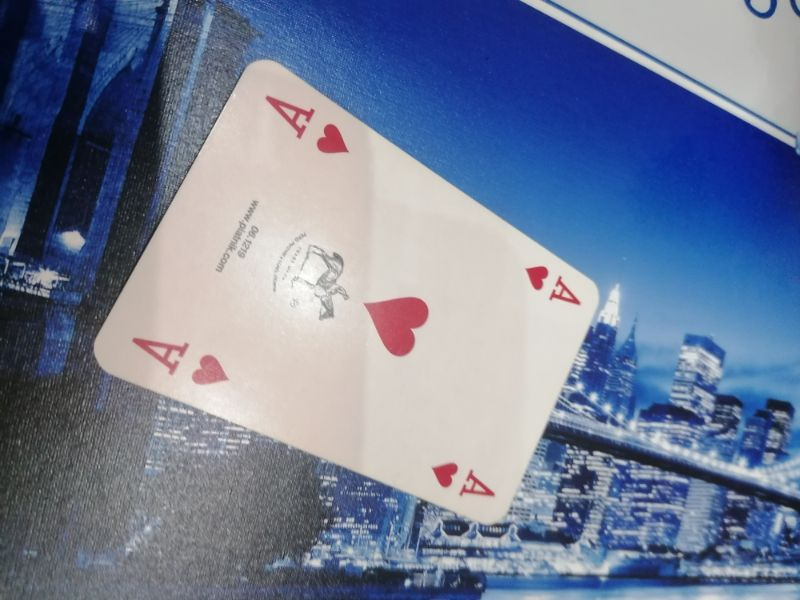Ah: (125, 329, 237, 390), (264, 90, 354, 160), (427, 456, 499, 505), (522, 261, 585, 307)
